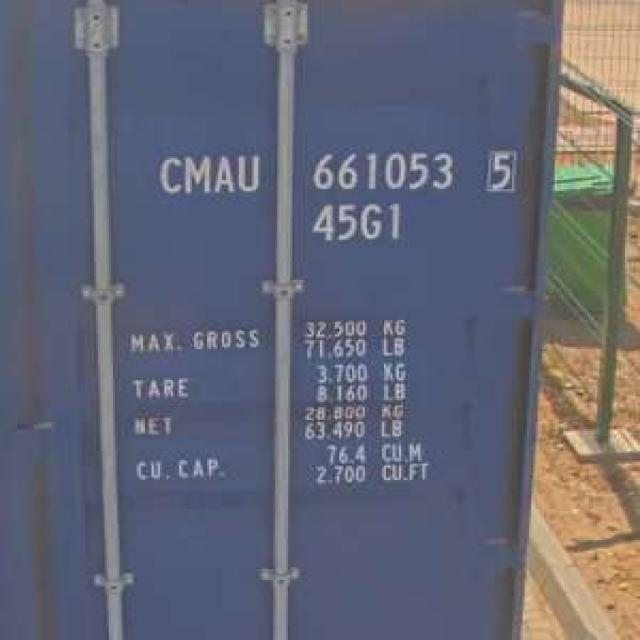dv: (480, 146, 521, 197)
owner: (150, 147, 262, 200)
serial: (305, 144, 459, 196)
size: (307, 198, 408, 247)
